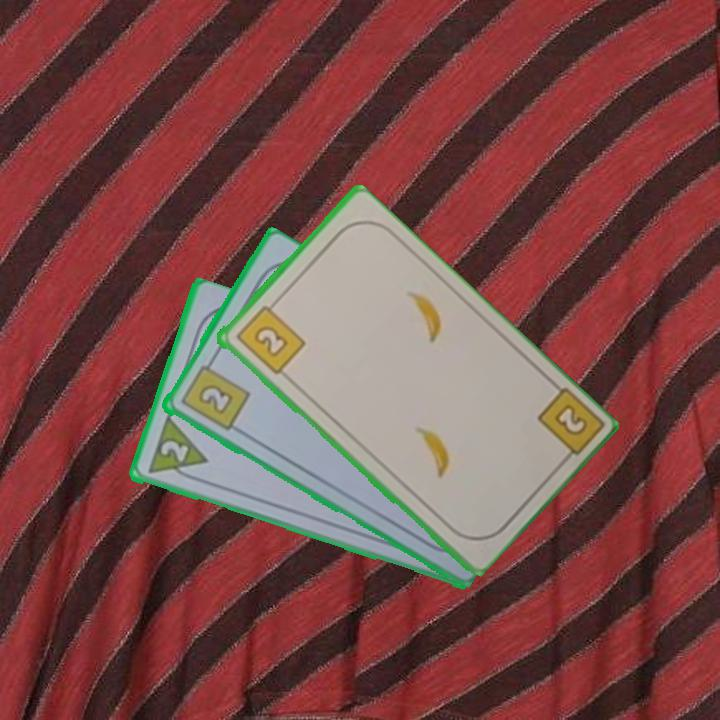2b: (231, 297, 308, 378), (532, 383, 604, 469), (176, 354, 252, 434)
2p: (156, 436, 191, 465)
